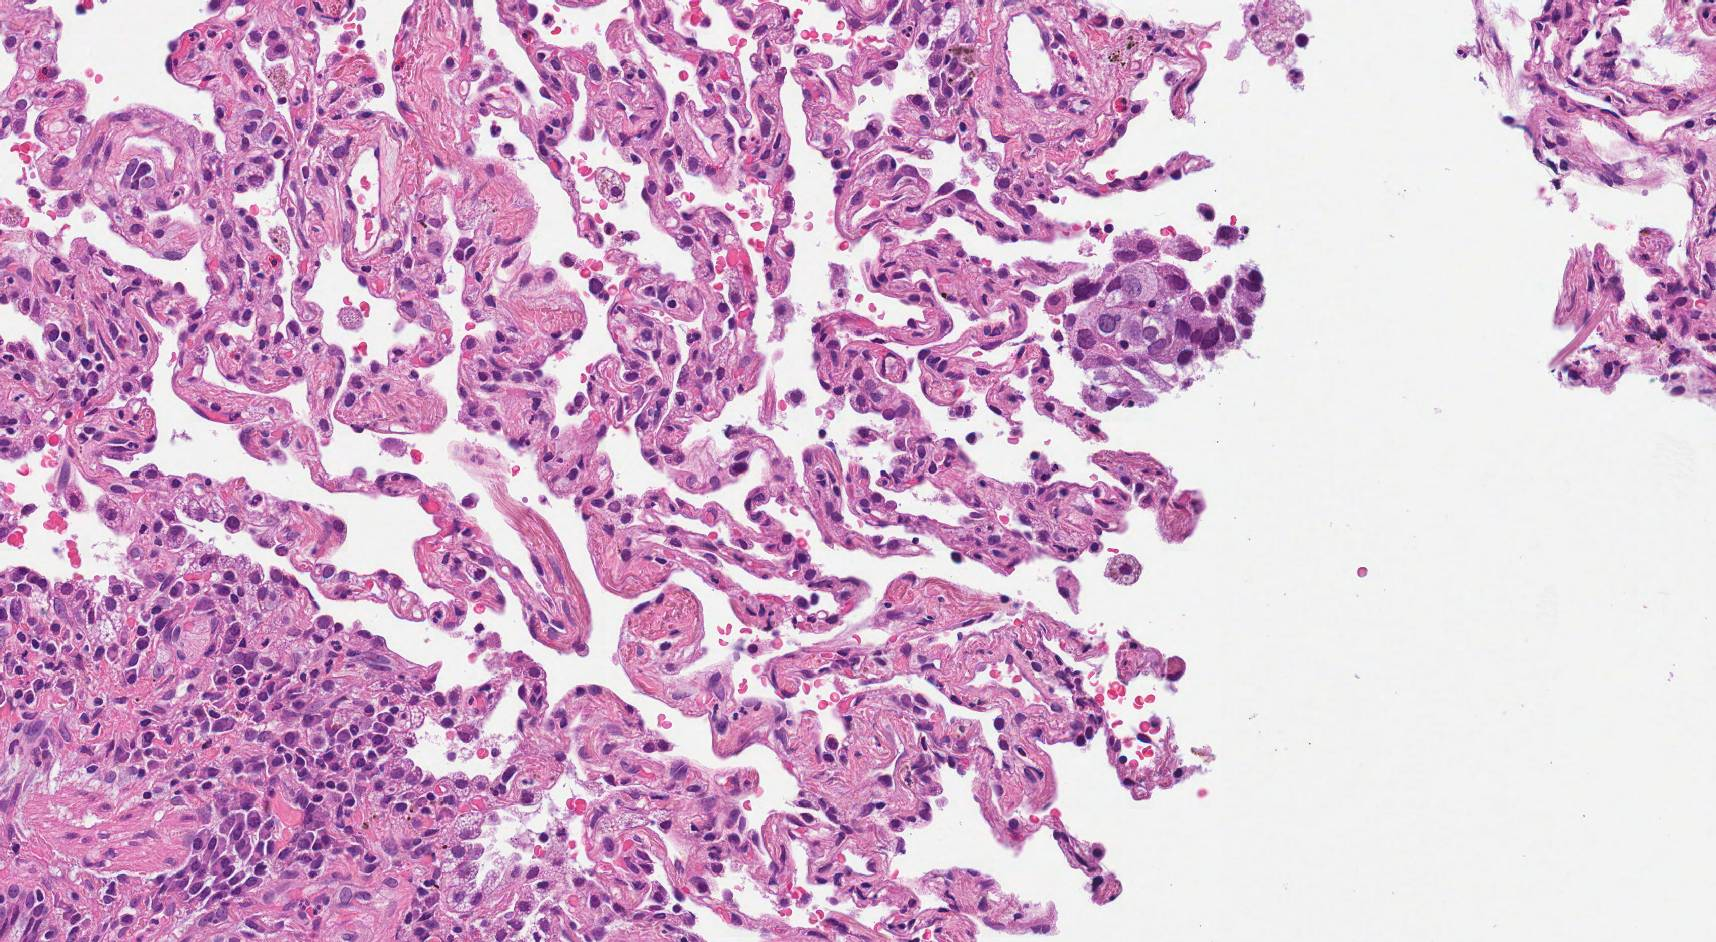stas: (1063, 229, 1271, 415)
